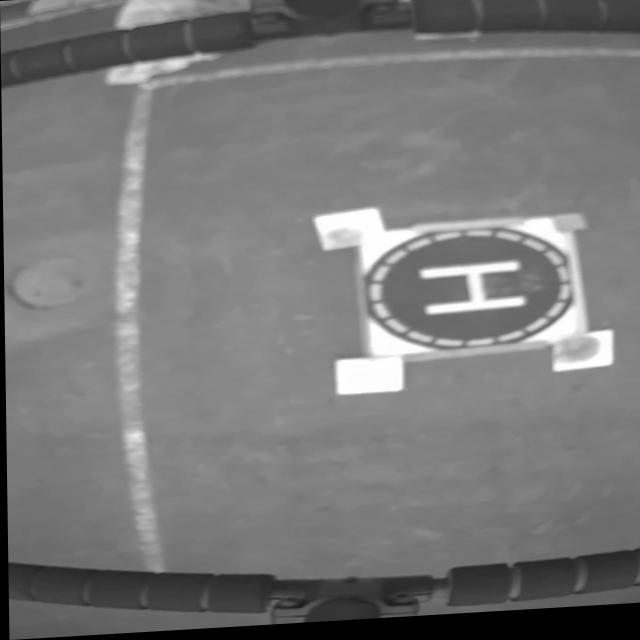Helipad: (416, 265, 525, 320)
